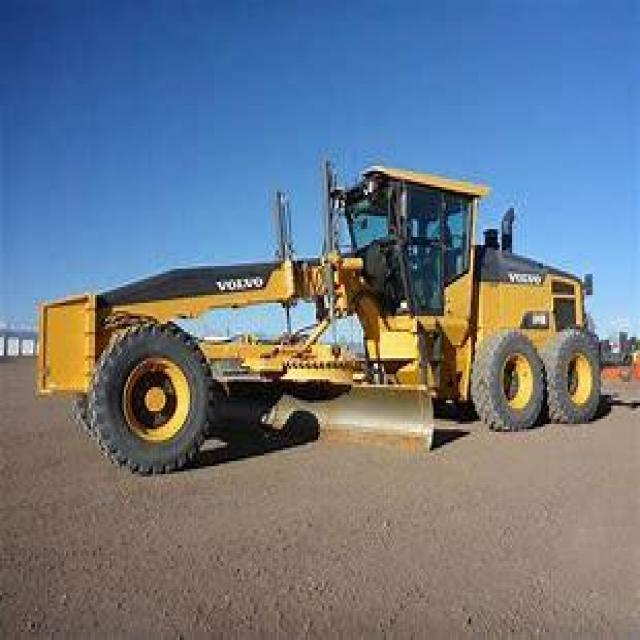Grader: (31, 153, 609, 474)
